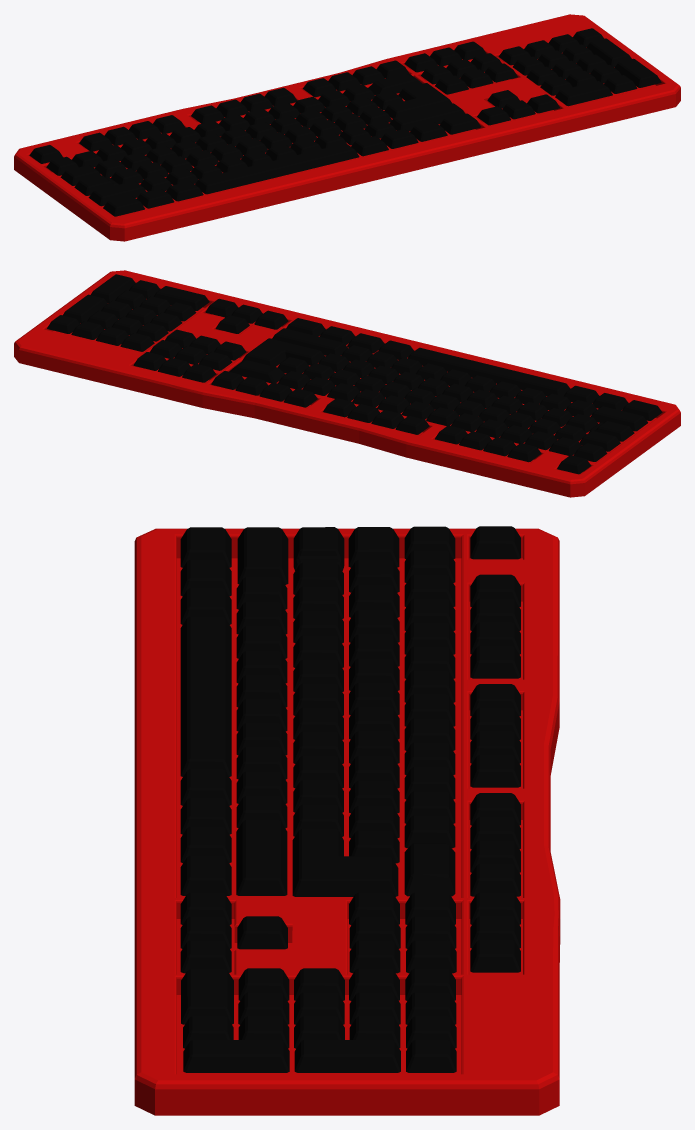
The model's file is keyboard_1.obj.
The picture shows the model from 3 angles, top to bottom: view 1: azimuth 30°, elevation 25°; view 2: azimuth 150°, elevation 25°; view 3: azimuth 270°, elevation 25°; orthographic projection. The views are drawn at different scales.
Parts seen in each view (by area): view 1: Object_1, Object_0; view 2: Object_1, Object_0; view 3: Object_1, Object_0.
Part boxes in pixels (x1,y1,x2,y2): Object_1: (29,28,661,216); Object_0: (14,14,680,241); Object_1: (47,274,662,474); Object_0: (14,270,680,497); Object_1: (180,526,520,1072); Object_0: (134,528,560,1115).
Bounding box in the file's own units: 0.8392 × 0.0325 × 0.271.
